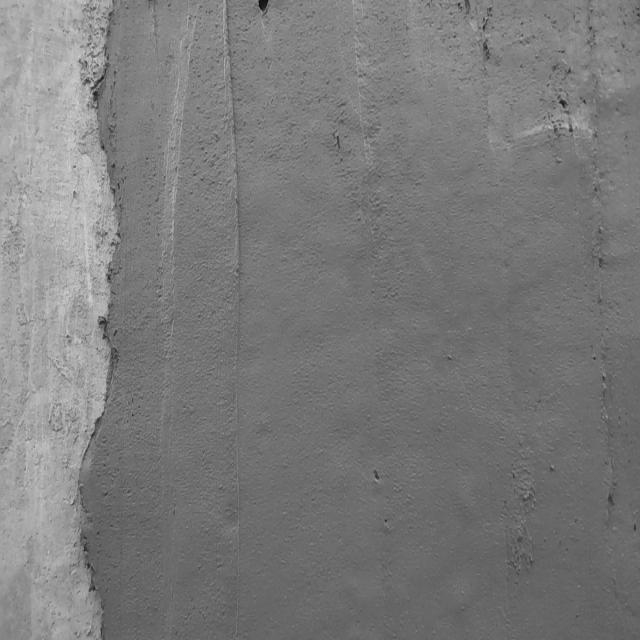trowels marks: (215, 2, 243, 632)
